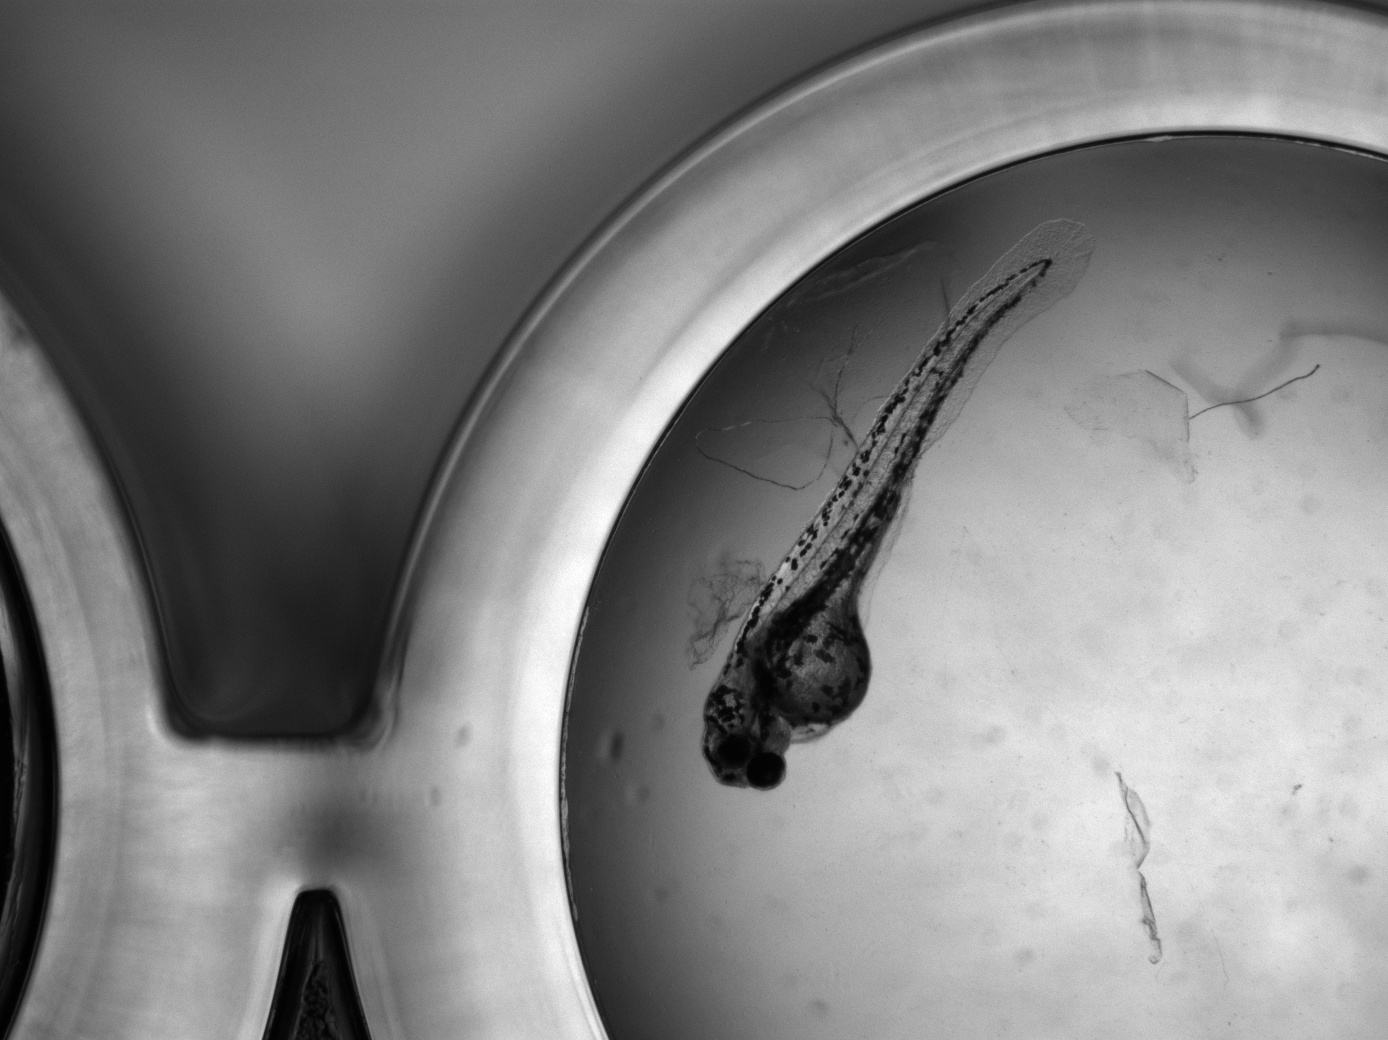debris: (1060, 369, 1203, 492), (1111, 769, 1166, 968), (683, 552, 766, 669)
embryo: (700, 256, 1055, 792)
eye: (746, 752, 786, 792), (717, 734, 749, 768)
yolksac: (755, 604, 871, 724)
